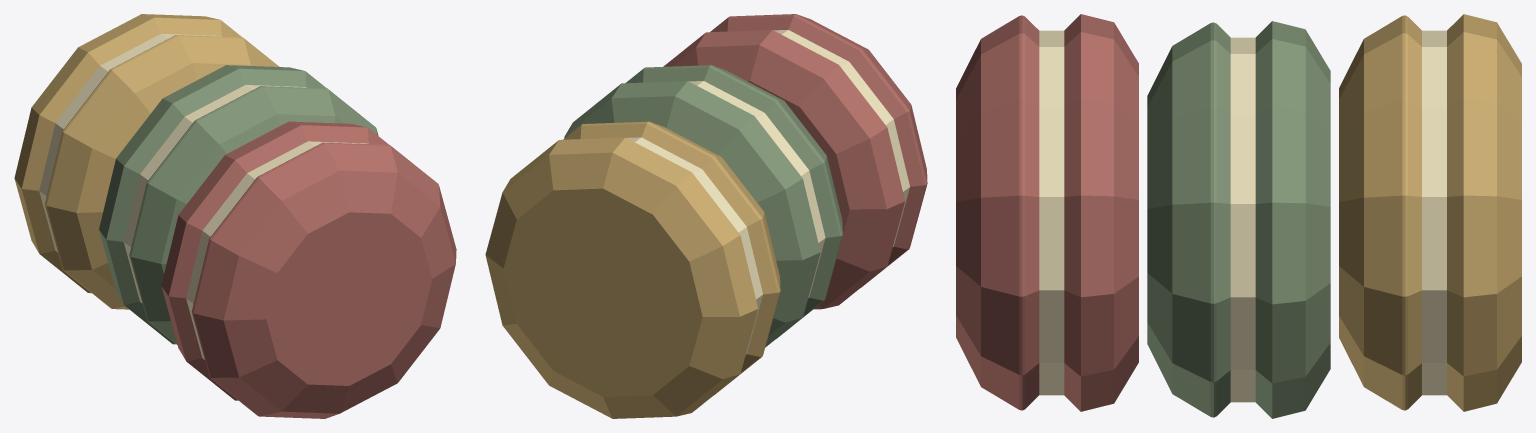
The model's file is macarons.glb.
3 views of the same model, side by side, from view 1: azimuth 30°, elevation 25°; view 2: azimuth 150°, elevation 25°; view 3: azimuth 270°, elevation 25° (orthographic). The views are drawn at different scales.
Visible parts, largest first — view 1: macarons; view 2: macarons; view 3: macarons.
Boxes of the visible parts, <box> form: macarons: <box>14,14,456,418</box>; macarons: <box>485,14,927,418</box>; macarons: <box>956,14,1521,418</box>.
Size of the model in its own units: 0.05 by 0.048 by 0.068.
